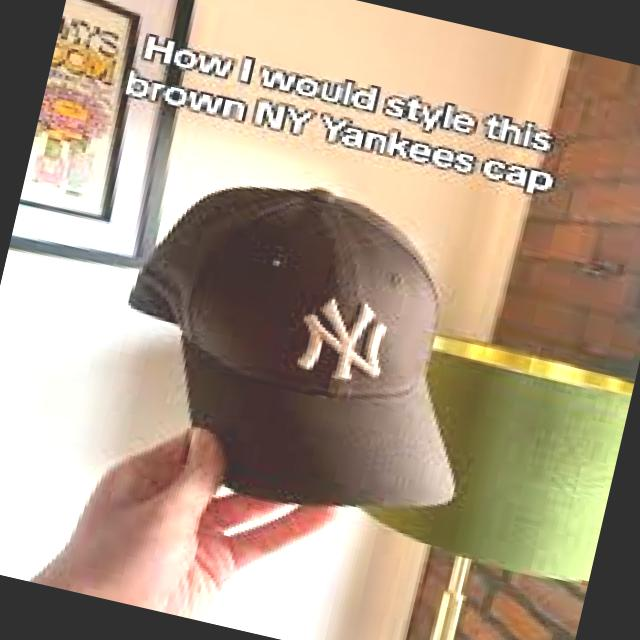hat: (129, 187, 455, 506)
